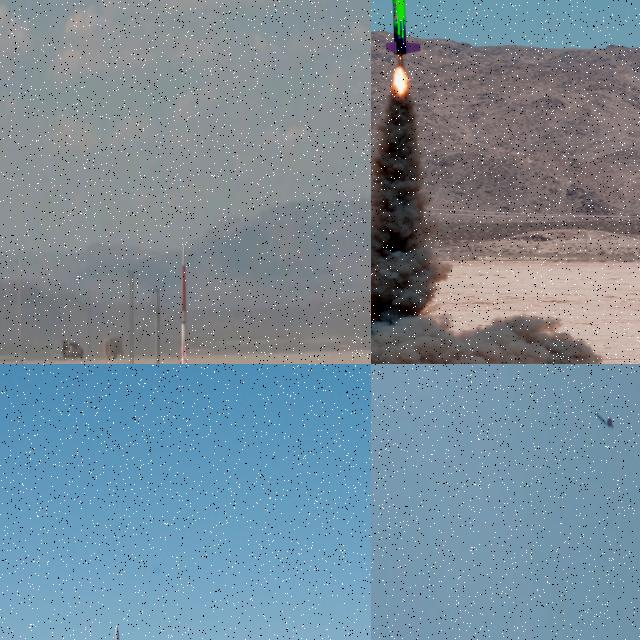Rocket: (384, 0, 423, 57), (177, 243, 188, 364), (110, 624, 125, 640), (595, 409, 607, 426)
